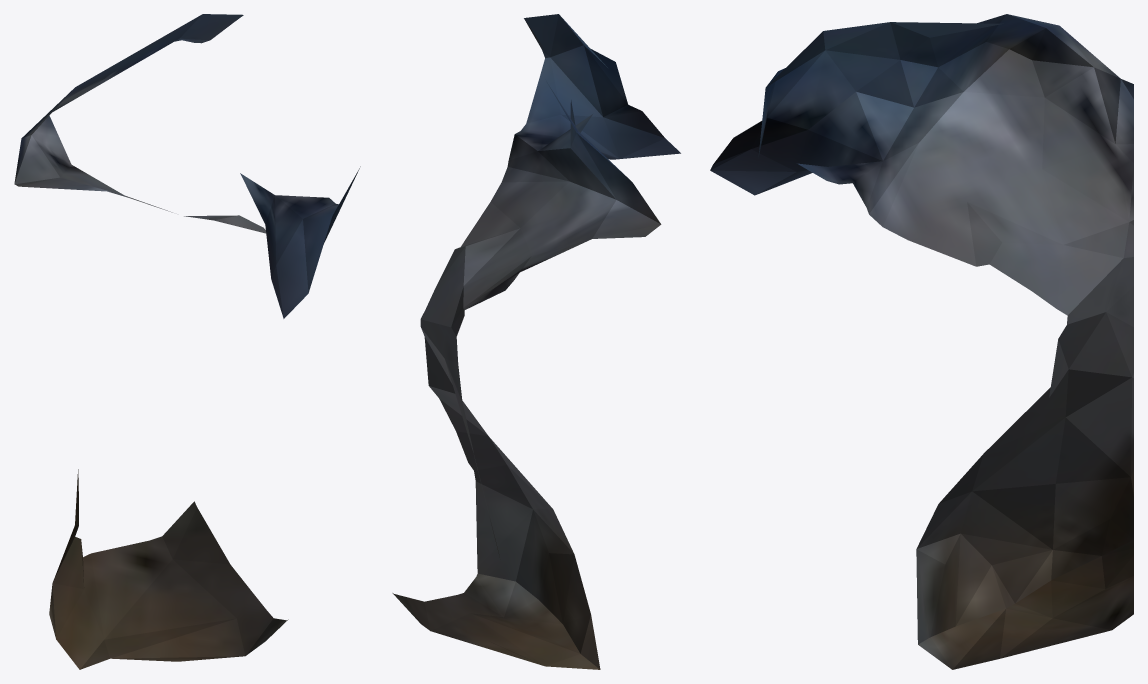
3 views of the same model, side by side, from view 1: azimuth 30°, elevation 25°; view 2: azimuth 150°, elevation 25°; view 3: azimuth 270°, elevation 25° (orthographic). The views are drawn at different scales.
Size of the model in its own units: 0.2013 by 0.5151 by 0.3009.
Materials: 1 (1 with a texture image).
